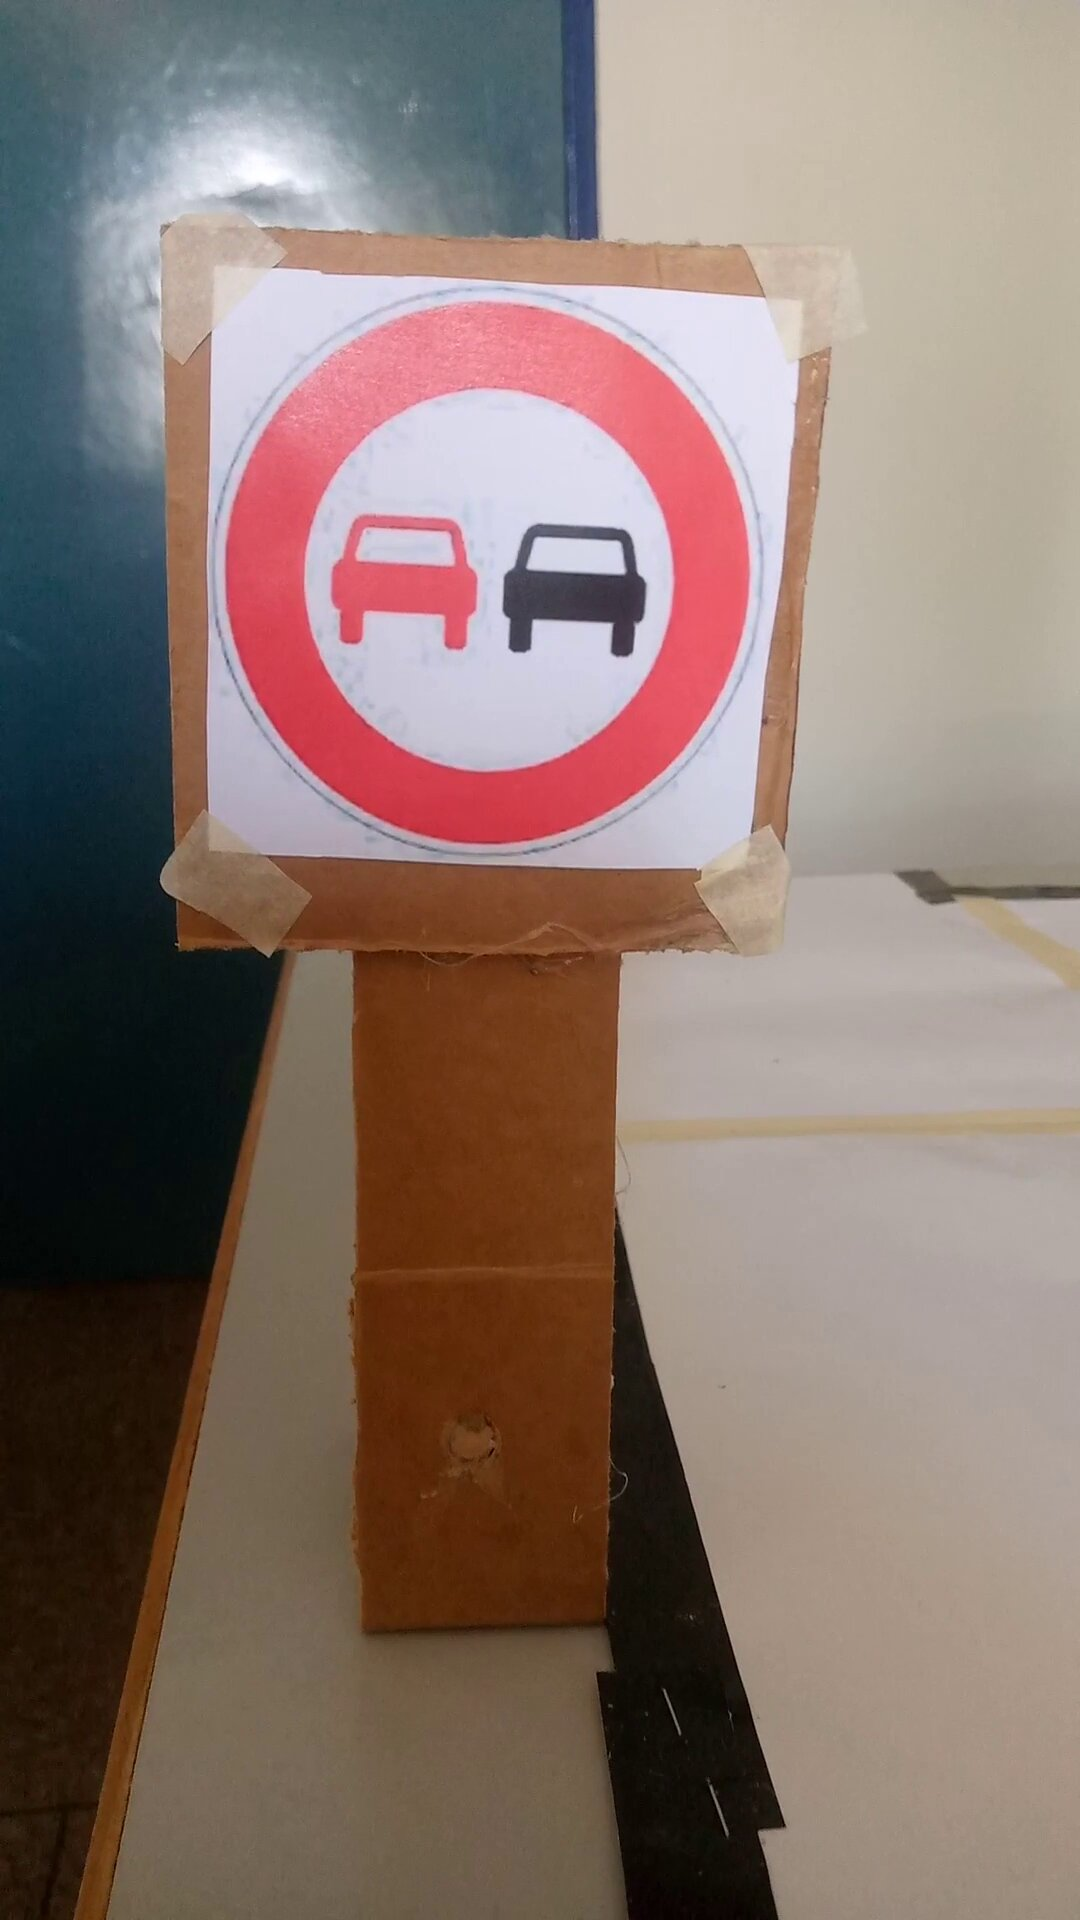panel100: (198, 257, 770, 899)
